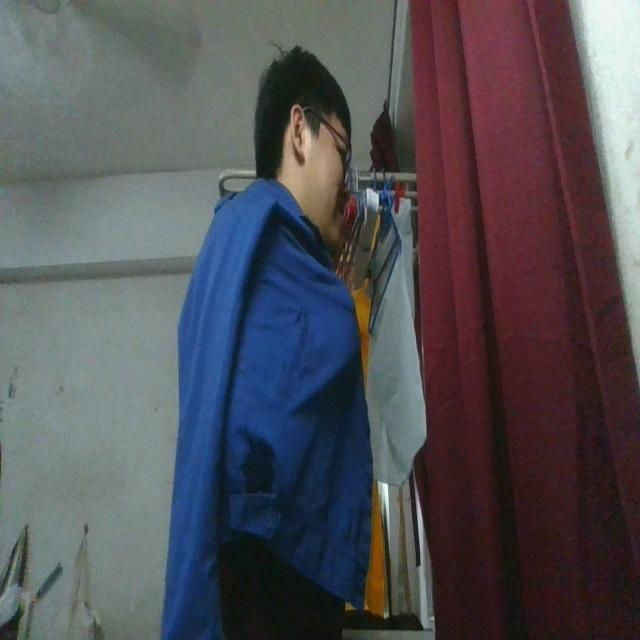person_without_labcoat: (162, 48, 372, 639)
